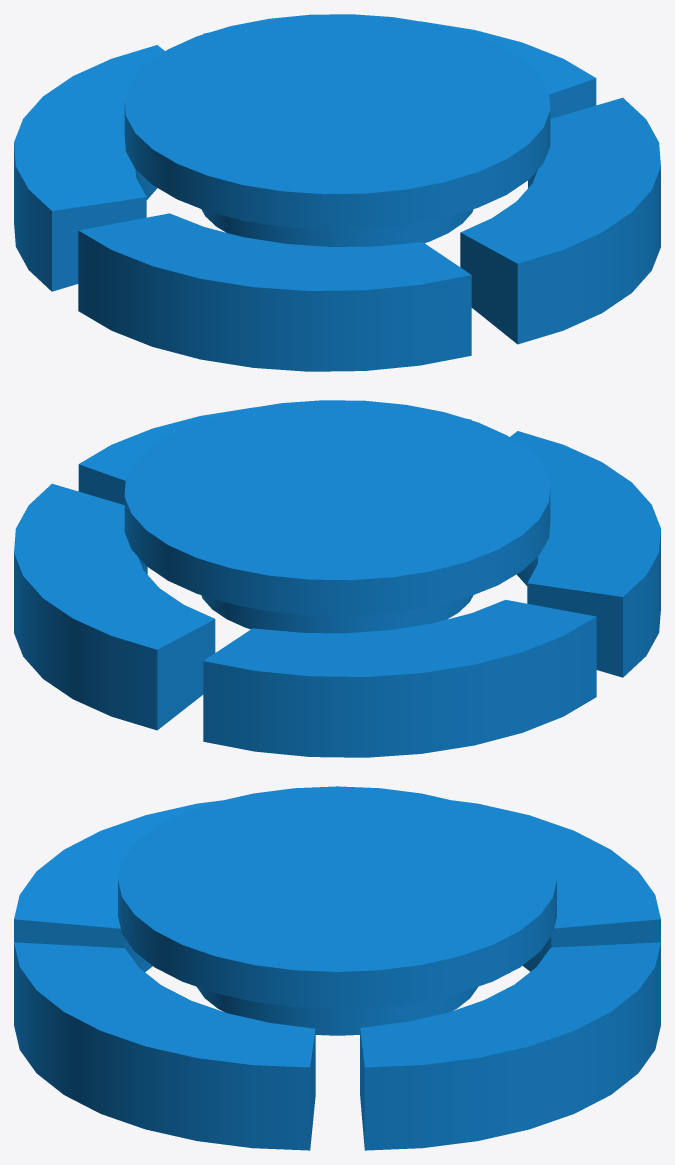
Rendered from SkeldTable.fbx.
3 views of the same model, one above another, from view 1: azimuth 30°, elevation 25°; view 2: azimuth 150°, elevation 25°; view 3: azimuth 270°, elevation 25° (orthographic). The views are drawn at different scales.
Parts seen in each view (by area): view 1: SkeldTable; view 2: SkeldTable; view 3: SkeldTable.
Part boxes in pixels (x1,y1,x2,y2): SkeldTable: (14, 14, 660, 371); SkeldTable: (14, 400, 660, 757); SkeldTable: (14, 786, 660, 1150).
Bounding box in the file's own units: 1062 × 244 × 1062.
